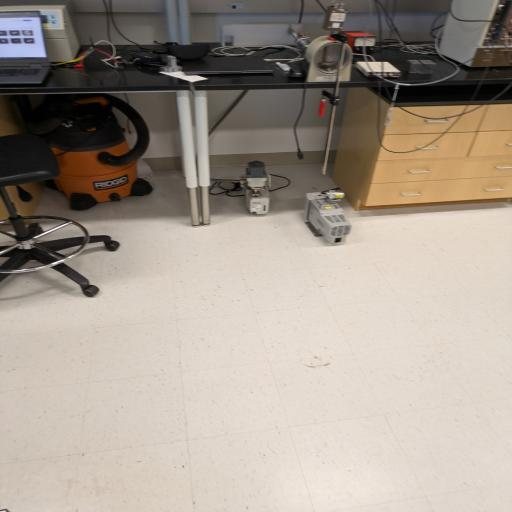rubberband: (275, 61, 291, 73)
